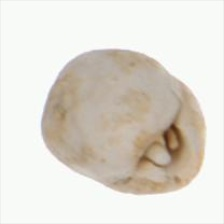L3: (135, 122, 186, 175)
L4: (40, 48, 207, 195)
